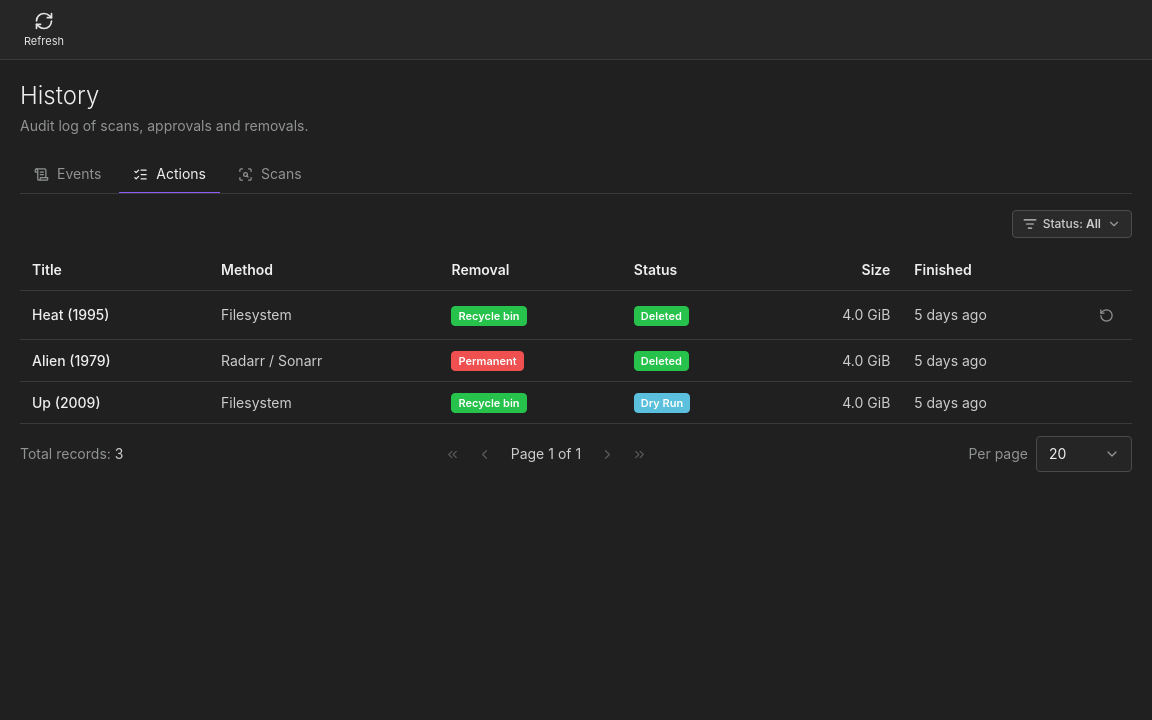
Test: <HistoryPage> actions › shows removal permanence and restores recycle-bin removals after confirmation
Expected: the link "Alien (1979)" is shown, [32,352,111,368]
Expected: the text "Recycle bin" is shown 2 times, [458,308,520,324]; [458,395,520,411]
Click the button named "Restore Heat (1995) from the recycle bin" at (1106, 315), box [1092,301,1120,329]
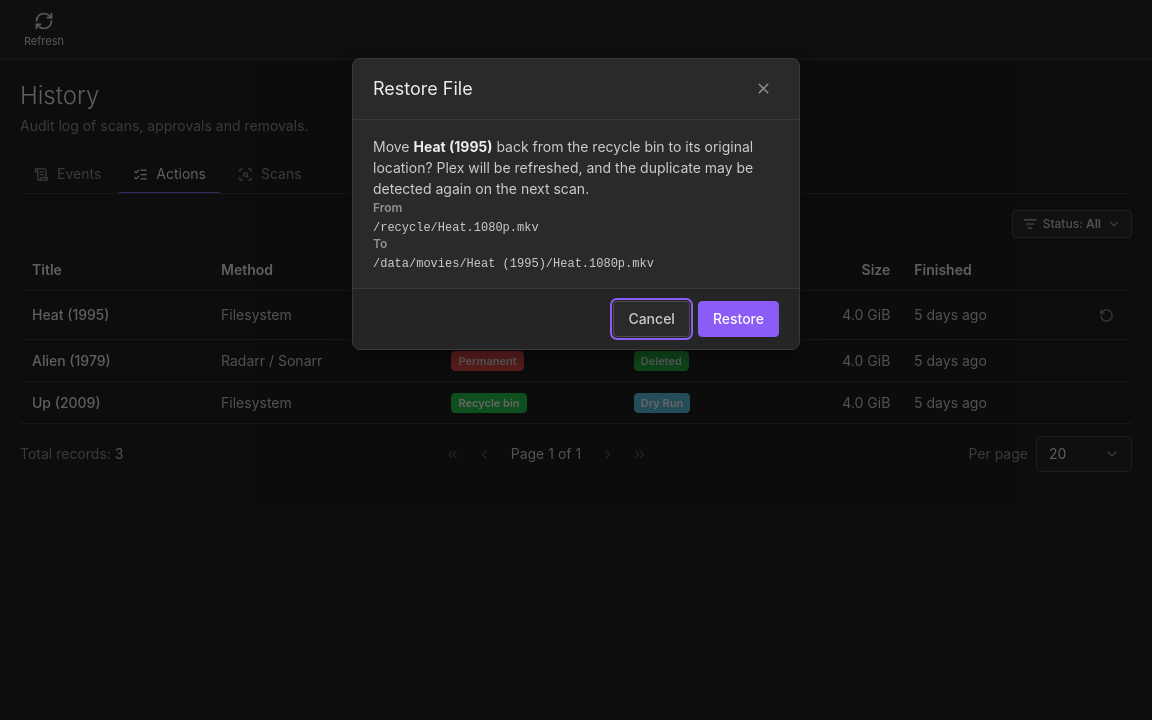
Expected: the text "/recycle/Heat.1080p.mkv" is shown, [373,221,539,235]
Click the button "Restore" at (738, 319), box [698,301,779,337]
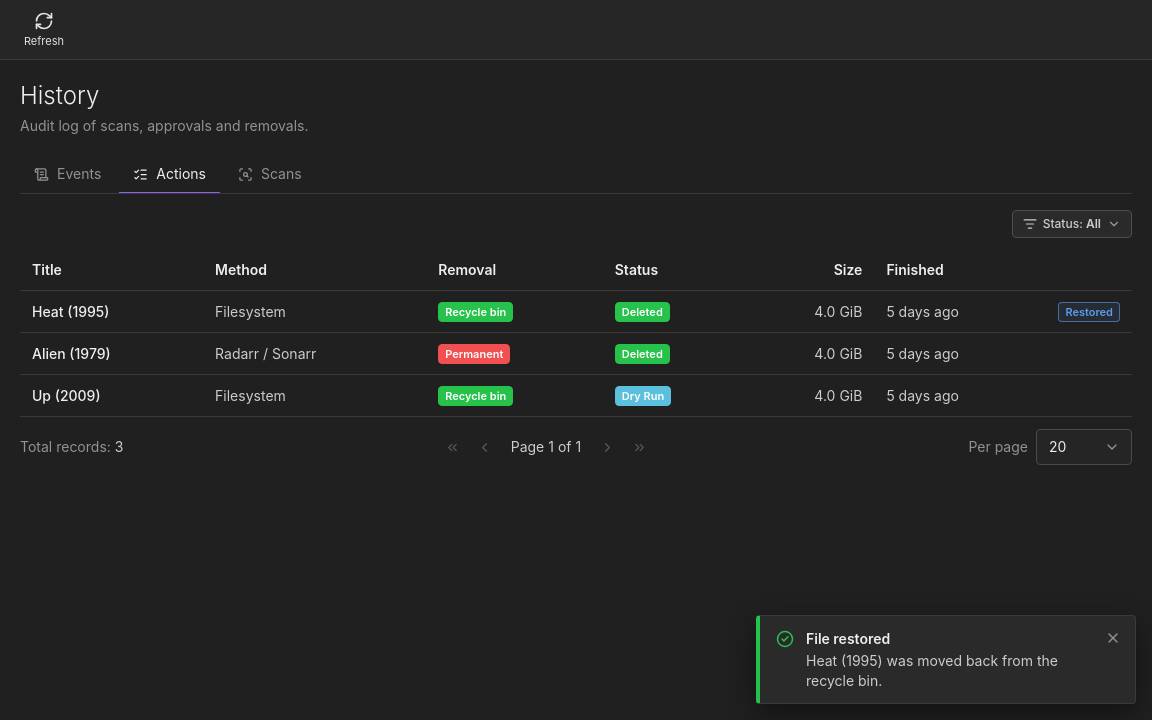
Expected: the text "File restored" is shown, [806,630,890,647]
Expected: the heading "Restore " is gone
Expected: the text "Restored" is shown, [1065,304,1113,320]
